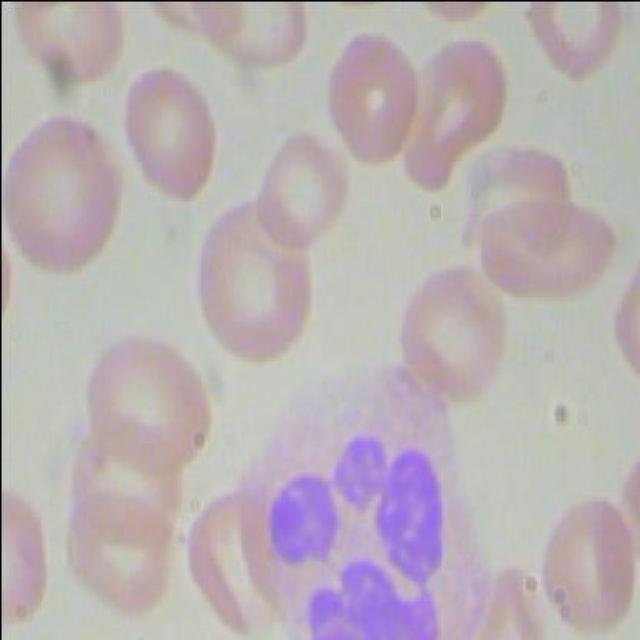RBC: (2, 108, 129, 284), (78, 318, 216, 478), (198, 192, 312, 368), (402, 30, 509, 196), (393, 256, 510, 404), (477, 190, 621, 304), (115, 64, 222, 208), (532, 493, 639, 632), (324, 23, 419, 172), (258, 117, 347, 255), (190, 1, 313, 81), (524, 2, 622, 92), (1, 469, 45, 637)
WBC: (225, 362, 484, 638)
